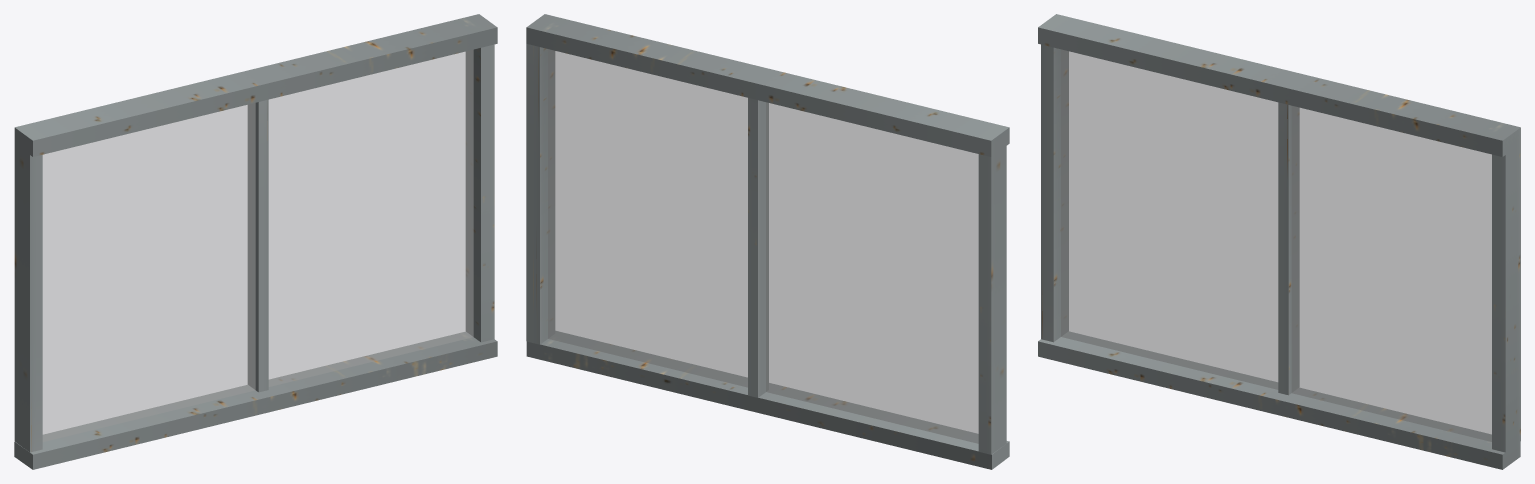
Rendered from bil_window_a1.fbx.
The picture shows the model from 3 angles, left to right: view 1: azimuth 30°, elevation 25°; view 2: azimuth 150°, elevation 25°; view 3: azimuth 330°, elevation 25°; orthographic projection.
Visible parts, largest first — view 1: bil_window_a1_01; view 2: bil_window_a1_01; view 3: bil_window_a1_01.
Boxes of the visible parts, <box> form: bil_window_a1_01: <box>14,14,497,469</box>; bil_window_a1_01: <box>526,14,1009,469</box>; bil_window_a1_01: <box>1038,14,1520,469</box>.
Bounding box in the file's own units: 183 × 124 × 12.5.
